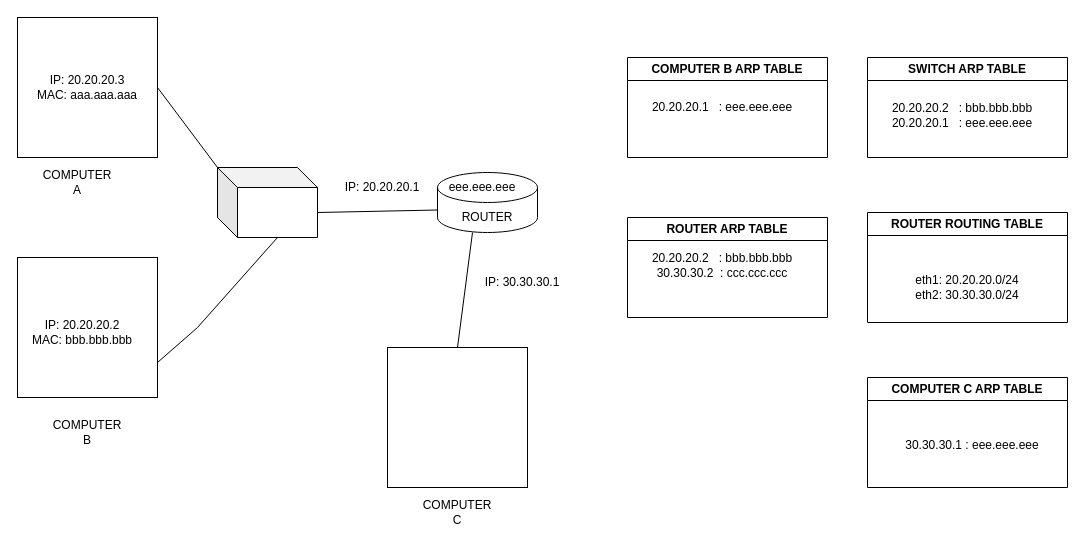
This 1085x545 diagram has some shape labels left out. Here are the shapes that lost their labels. From the top down, the centre of each, then its label:
the point at 267,202: SWITCH 1
the point at 457,417: IP: 30.30.30.2 MAC: ccc.ccc.ccc
